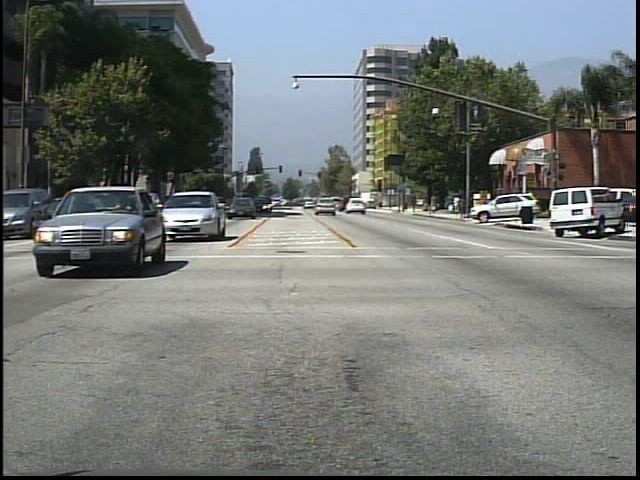person: (428, 192, 441, 215), (453, 193, 464, 219)
